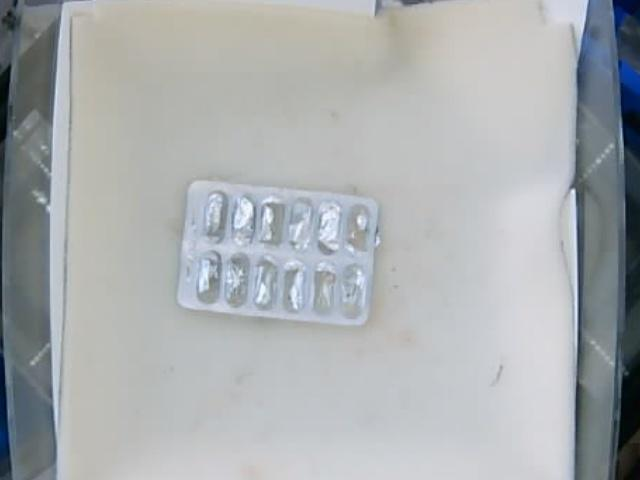Medicine: (178, 179, 377, 325)
